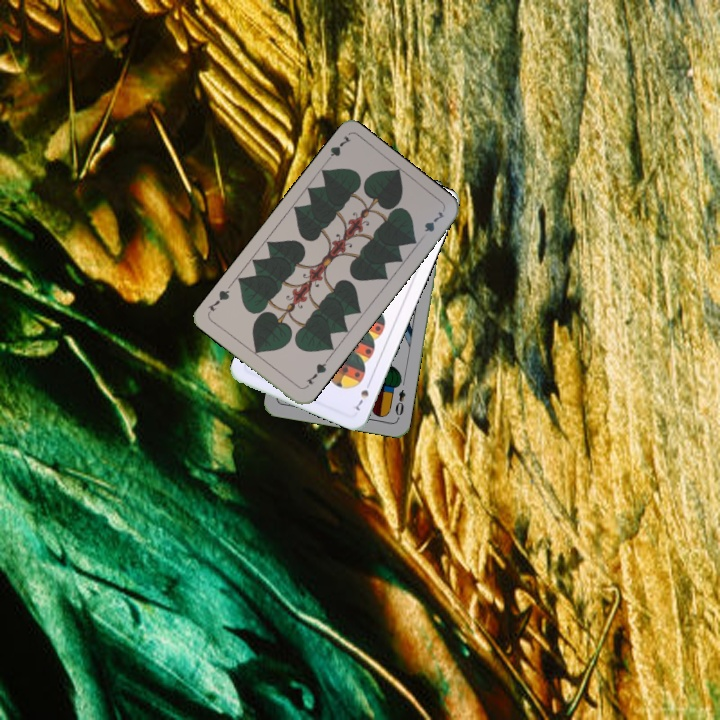EO: (391, 385, 408, 422)
G7: (320, 132, 354, 167), (301, 356, 330, 391)
S7: (351, 376, 374, 413)
